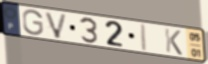2: (105, 20, 128, 49)
3: (77, 16, 99, 45)
G: (22, 9, 45, 37)
I: (140, 22, 149, 54)
K: (163, 27, 184, 57)
V: (44, 10, 70, 40)
